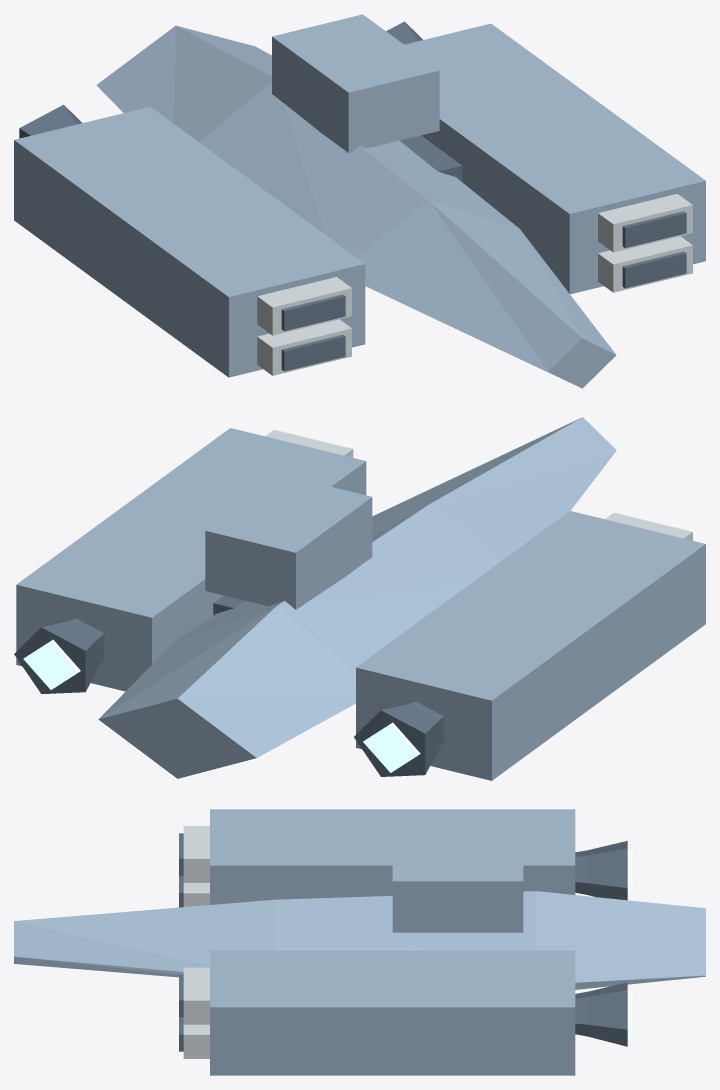
3 views of the same model, one above another, from view 1: azimuth 30°, elevation 25°; view 2: azimuth 150°, elevation 25°; view 3: azimuth 270°, elevation 25° (orthographic). The views are drawn at different scales.
Bounding box in the file's own units: 9 × 3.08 × 13.29.
